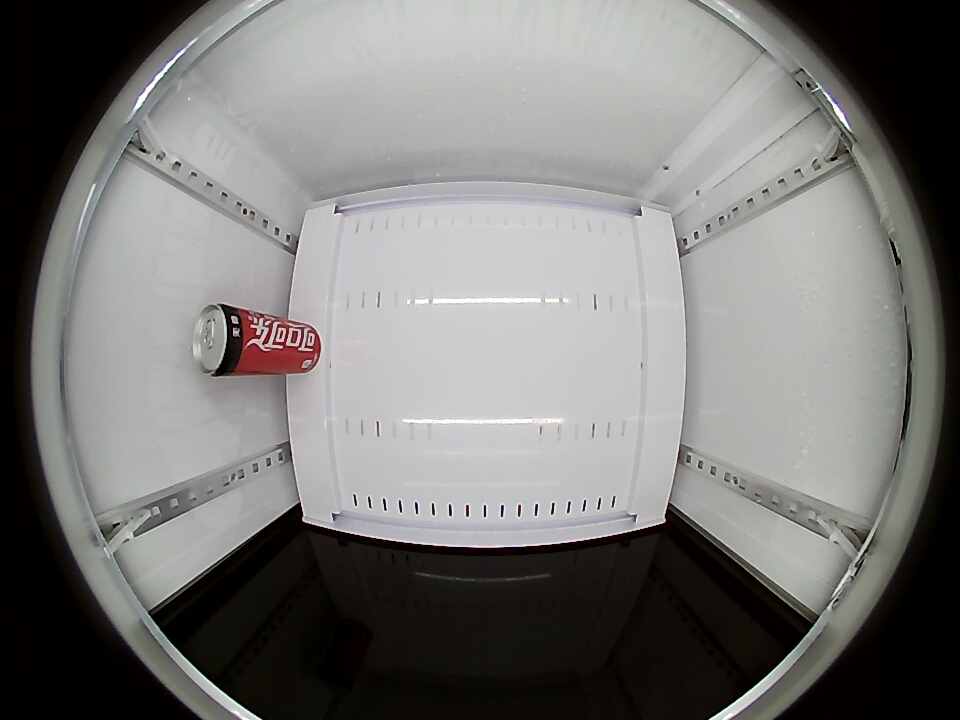lingdukele: (192, 303, 253, 377)
